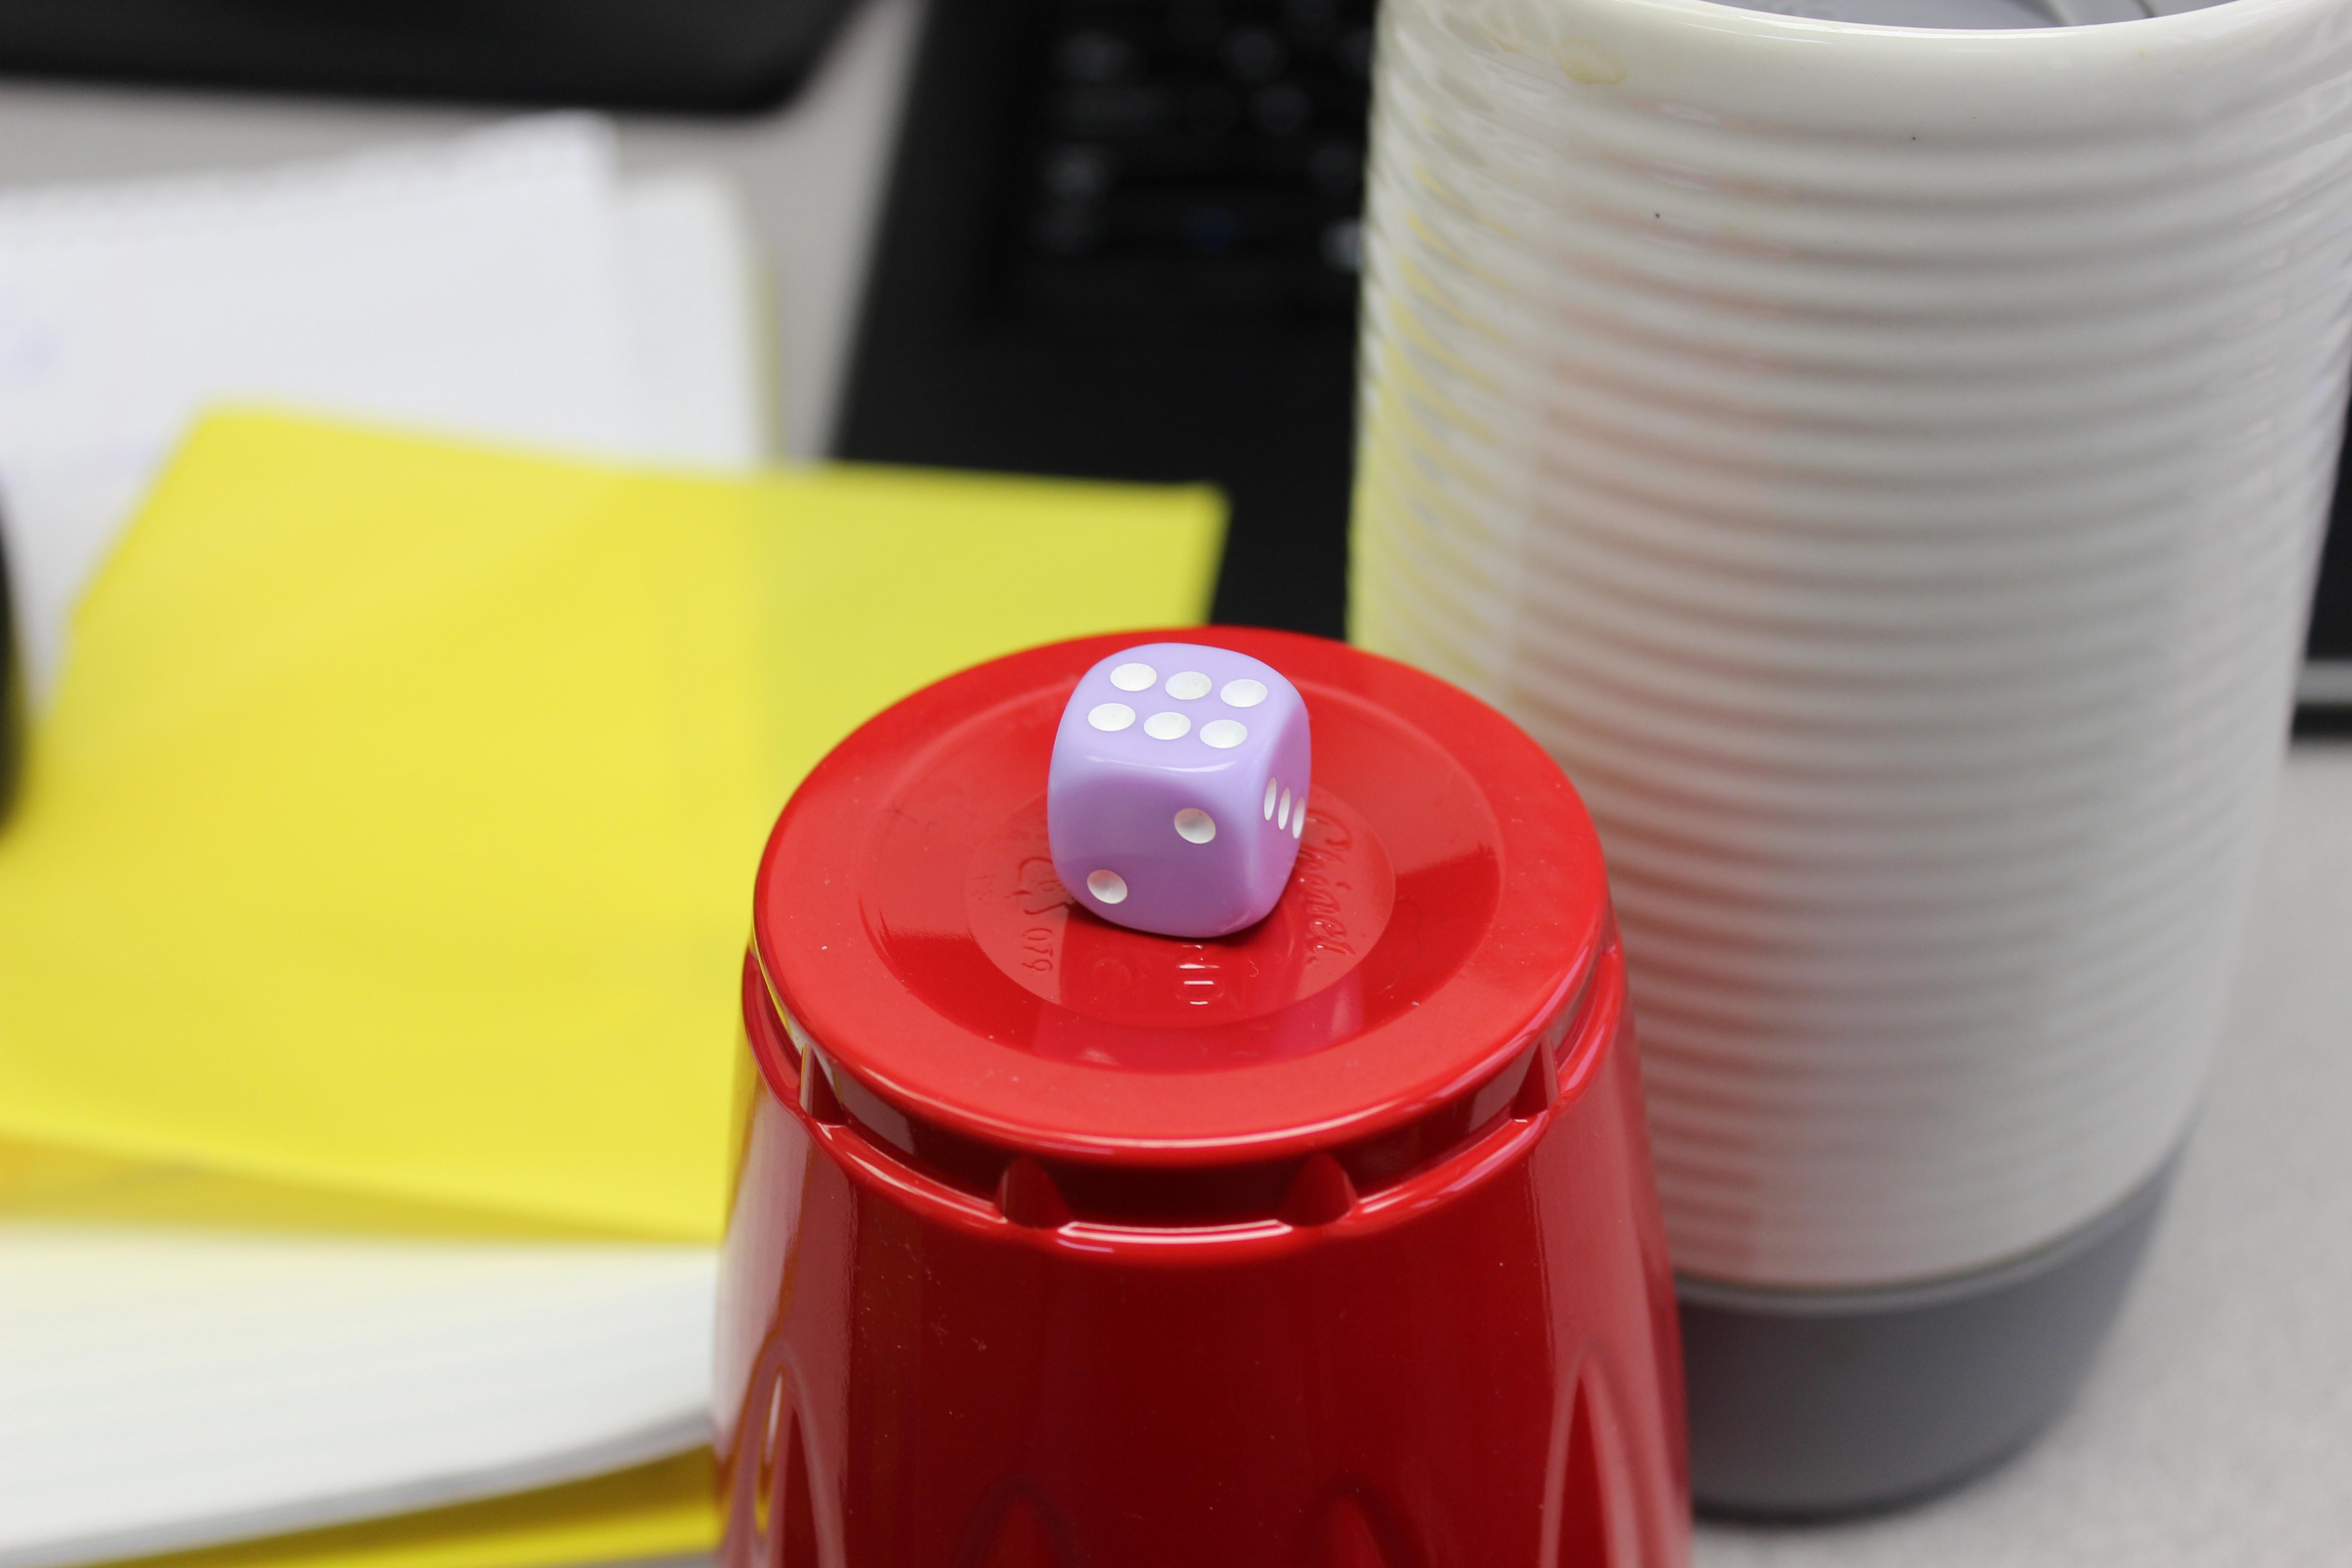lavenderDie: (985, 591, 1342, 971)
